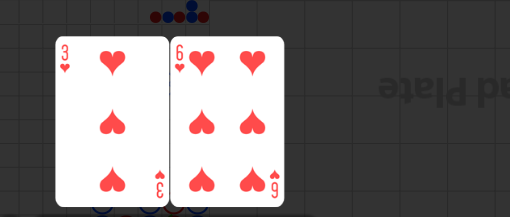3H: (59, 44, 72, 75)
6H: (268, 168, 281, 199)
